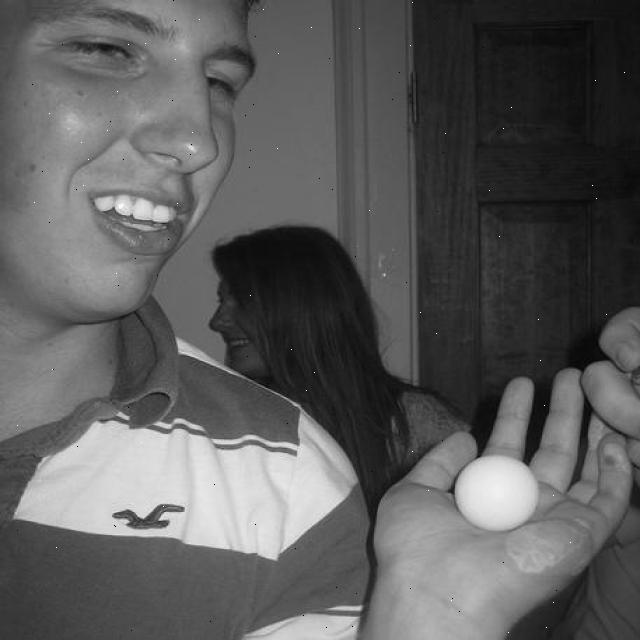ping-pong-ball: (454, 454, 541, 534)
